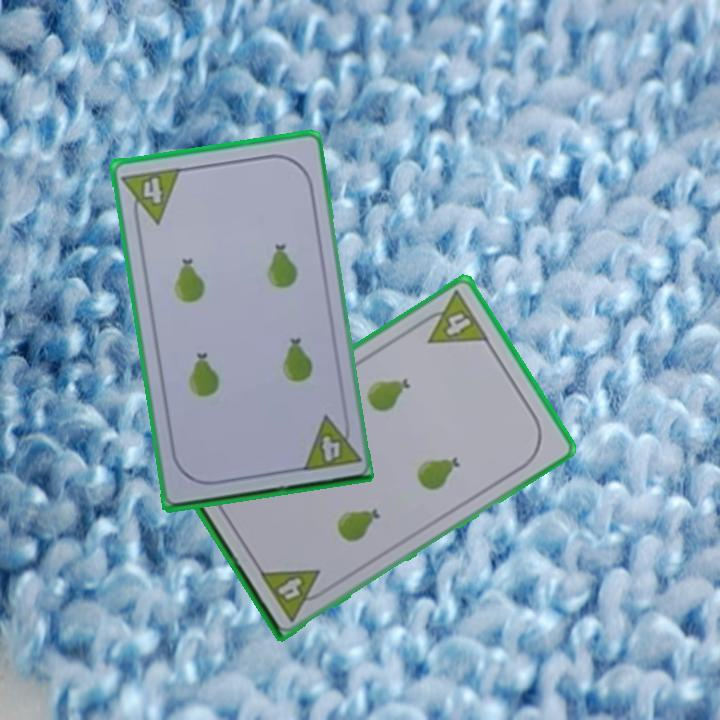4p: (413, 287, 492, 347), (256, 564, 332, 624), (118, 164, 183, 230), (297, 410, 362, 474)
